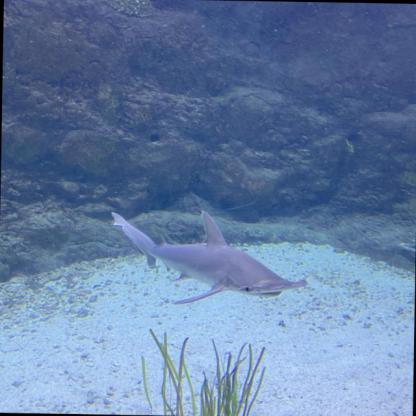shark: (111, 208, 309, 306)
